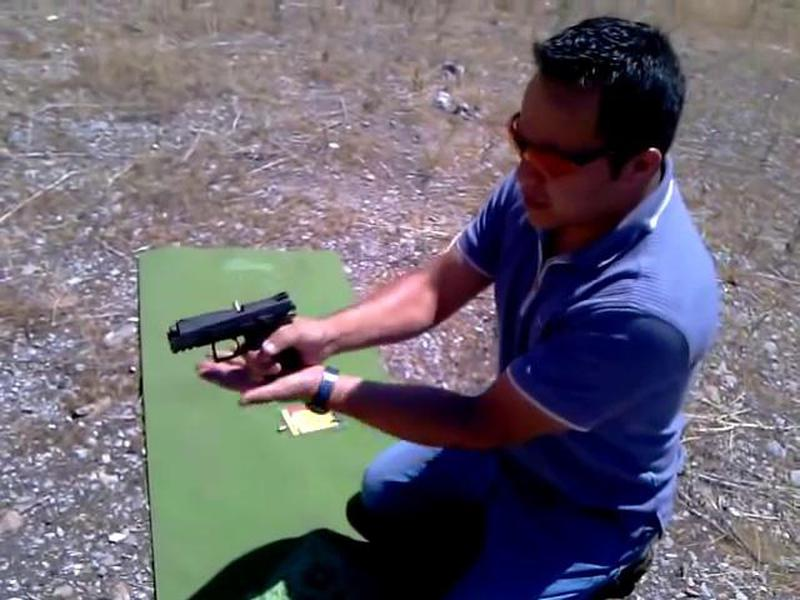Pistola: (152, 269, 311, 406)
